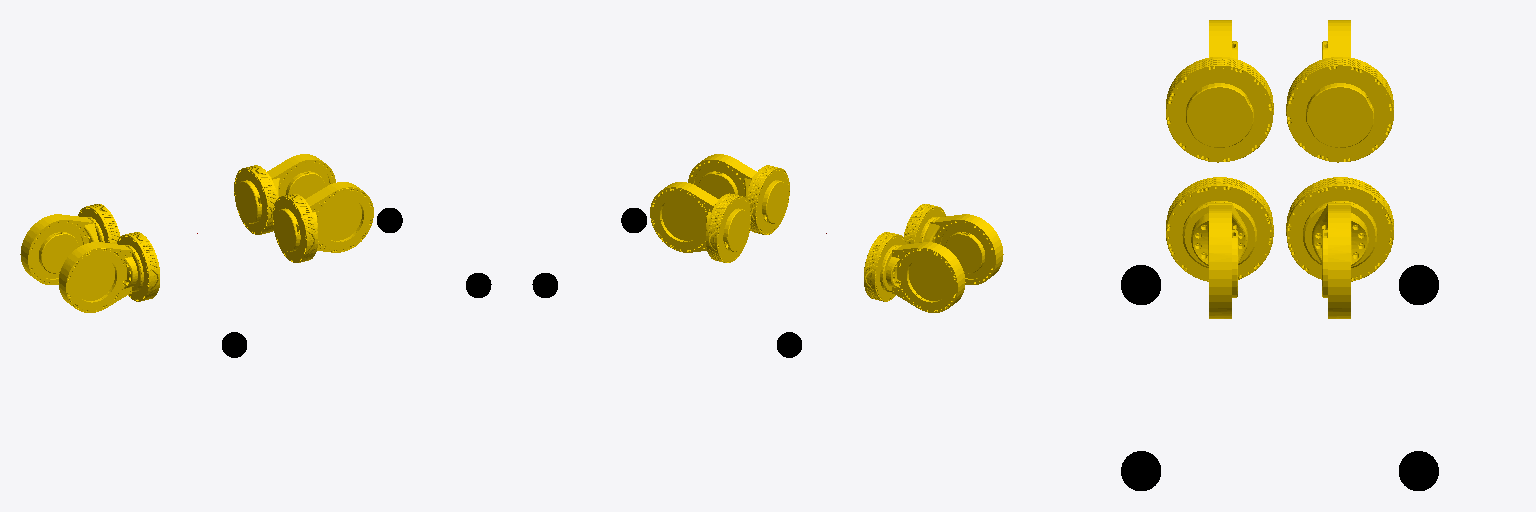
--- Facts derived from the render (not from the file) ---
The picture shows the robot from 3 angles, left to right: view 1: azimuth 30°, elevation 25°; view 2: azimuth 150°, elevation 25°; view 3: azimuth 270°, elevation 25°; orthographic projection.
Robot: quake_description — 23 links, 22 joints (12 revolute, 10 fixed); root link base; default pose: all joints at 0 but 4 set to mid-range because 0 is outside their limits (FR_calf_joint = -2, FL_calf_joint = -2, RR_calf_joint = -2, RL_calf_joint = -2).
Visible links, largest first — view 1: RR_hip, FR_hip, FL_hip, RL_hip; view 2: RL_hip, FL_hip, FR_hip, RR_hip; view 3: RR_hip, RL_hip, FL_hip, FR_hip, RR_foot, RL_foot, FR_foot, FL_foot.
Boxes of the visible links, x1,y1,x2,y2 form: RR_hip: (59, 232, 159, 312); FR_hip: (273, 182, 373, 262); FL_hip: (234, 154, 335, 234); RL_hip: (20, 204, 120, 284); RL_hip: (864, 232, 964, 312); FL_hip: (650, 182, 750, 262); FR_hip: (688, 154, 789, 234); RR_hip: (904, 204, 1003, 284); RR_hip: (1166, 20, 1273, 162); RL_hip: (1286, 20, 1393, 162); FL_hip: (1286, 177, 1393, 318); FR_hip: (1166, 177, 1273, 318); RR_foot: (1121, 265, 1160, 304); RL_foot: (1399, 265, 1438, 304); FR_foot: (1121, 451, 1160, 490); FL_foot: (1399, 451, 1438, 490).
Bounding box of the posed robot: 1.15 × 0.502 × 0.3291 m (x, y, z).
4 mesh visuals loaded from 5 distinct referenced files (1 binary STL); not drawn: 9 (reference not matched to a file when rendering).

robot.urdf — quake_description:
<?xml version="1.0" encoding="utf-8"?>
<!-- =================================================================================== -->
<!-- |    This document was autogenerated by xacro from robot.xacro                    | -->
<!-- |    EDITING THIS FILE BY HAND IS NOT RECOMMENDED                                 | -->
<!-- =================================================================================== -->
<robot name="quake_description">
  <!-- ? -->
  <!-- ? -->
  <!-- arm -->
  <!-- <xacro:property name="arm_base_mass" value=""/> 
    <xacro:property name="arm_base_width" value=""/> 
    <xacro:property name="arm_base_length" value=""/> 
    <xacro:property name="arm_base_height" value=""/> 
    <xacro:property name="arm_base_com_x" value=""/> 
    <xacro:property name="arm_base_com_y" value=""/> 
    <xacro:property name="arm_base_com_z" value=""/> 
    <xacro:property name="arm_base_ixx" value=""/>
    <xacro:property name="arm_base_ixy" value=""/>
    <xacro:property name="arm_base_ixz" value=""/>
    <xacro:property name="arm_base_iyy" value=""/>
    <xacro:property name="arm_base_iyz" value=""/>
    <xacro:property name="arm_base_izz" value=""/> -->
  <material name="black">
    <color rgba="0.0 0.0 0.0 1.0"/>
  </material>
  <material name="blue">
    <color rgba="0.0 0.0 0.8 1.0"/>
  </material>
  <material name="green">
    <color rgba="0.0 0.8 0.0 1.0"/>
  </material>
  <material name="grey">
    <color rgba="0.2 0.2 0.2 1.0"/>
  </material>
  <material name="silver">
    <color rgba="0.913725490196 0.913725490196 0.847058823529 1.0"/>
  </material>
  <material name="gold">
    <color rgba="1.0 0.843137254902 0.0 1.0"/>
  </material>
  <material name="orange">
    <color rgba="1.0 0.423529411765 0.0392156862745 1.0"/>
  </material>
  <material name="brown">
    <color rgba="0.870588235294 0.811764705882 0.764705882353 1.0"/>
  </material>
  <material name="red">
    <color rgba="0.8 0.0 0.0 1.0"/>
  </material>
  <material name="white">
    <color rgba="1.0 1.0 1.0 1.0"/>
  </material>
  <!-- ros_control plugin -->
 

    <link name="base">
        <visual>
            <origin rpy="0 0 0" xyz="0 0 0"/>
            <geometry>
                <box size="0.001 0.001 0.001"/>
            </geometry>
        </visual>
    </link>

    <joint name="floating_base" type="fixed">
        <origin rpy="0 0 0" xyz="0.1 0.1 0"/>
        <parent link="base"/>
        <child link="trunk"/>
    </joint> 
  <link name="trunk">
    <visual>
      <origin rpy="0 0 0" xyz="0 0 0"/>
      <geometry>
        <mesh filename="package://quake_description/meshes/trunk.STL" scale="1 1 1"/>
      </geometry>
      <material name="gold"/>
    </visual>
    <!-- <collision>
            <origin rpy="0 0 0" xyz="0 0 0"/>
            <geometry>
                <mesh filename="package://quake_description/meshes/trunk.STL" scale="1 1 1"/>
            </geometry>
        </collision> -->
    <inertial>
      <origin rpy="0 0 0" xyz="0.0 0.0 0.0"/>
      <mass value="30.116"/>
      <inertia ixx="0.2" ixy="-0.00023853" ixz="2.4844e-05" iyy="0.5" iyz="-0.00044715" izz="0.6"/>
    </inertial>
  </link>
  <joint name="imu_joint" type="fixed">
    <parent link="trunk"/>
    <child link="imu_link"/>
    <origin rpy="0 0 0" xyz="0 0 0"/>
  </joint>
  <link name="imu_link">
    <inertial>
      <mass value="0.001"/>
      <origin rpy="0 0 0" xyz="0 0 0"/>
      <inertia ixx="0.0001" ixy="0" ixz="0" iyy="0.000001" iyz="0" izz="0.0001"/>
    </inertial>
    <visual>
      <origin rpy="0 0 0" xyz="0 0 0"/>
      <geometry>
        <box size="0.001 0.001 0.001"/>
      </geometry>
      <material name="red"/>
    </visual>
    <collision>
      <origin rpy="0 0 0" xyz="0 0 0"/>
      <geometry>
        <box size=".001 .001 .001"/>
      </geometry>
    </collision>
  </link>
  <joint name="FR_hip_joint" type="revolute">
    <origin rpy="0 0 0" xyz="0.241 -0.095 0"/>
    <parent link="trunk"/>
    <child link="FR_hip"/>
    <axis xyz="1 0 0"/>
    <dynamics damping="0.4" friction="0.2"/>
    <limit effort="200" lower="-1.13008323737" upper="1.13008323737" velocity="52.4"/>
  </joint>
  <link name="FR_hip">
    <visual>
      <origin rpy="3.14159265359 0 0" xyz="0 0 0"/>
      <geometry>
        <mesh filename="package://quake_description/meshes/hip.STL" scale="1 1 1"/>
      </geometry>
      <material name="gold"/>
    </visual>
    <collision>
      <origin rpy="1.57079632679 0 0" xyz="0 0.04 0"/>
      <geometry>
        <cylinder length="0.08" radius="0.041"/>
      </geometry>
    </collision>
    <inertial>
      <origin rpy="0 0 0" xyz="-0.001568 0.008134 0.000864"/>
      <mass value="2.354"/>
      <inertia ixx="0.0047303" ixy="-2.3798e-05" ixz="-4.2348e-08" iyy="0.0051123" iyz="3.807e-06" izz="0.0035171"/>
    </inertial>
  </link>
  <joint name="FR_hip_fixed" type="fixed">
    <origin rpy="0 0 0" xyz="0 -0.04 0"/>
    <parent link="FR_hip"/>
    <child link="FR_thigh_shoulder"/>
  </joint>
  <!-- this link is only for collision -->
  <link name="FR_thigh_shoulder">
    <collision>
      <origin rpy="1.57079632679 0 0" xyz="0 0 0"/>
      <geometry>
        <cylinder length="0.08" radius="0.044"/>
      </geometry>
    </collision>
  </link>
  <joint name="FR_thigh_joint" type="revolute">
    <origin rpy="0 0 0" xyz="0.1065 -0.062 0"/>
    <parent link="FR_hip"/>
    <child link="FR_thigh"/>
    <axis xyz="0 1 0"/>
    <dynamics damping="0.4" friction="0.2"/>
    <limit effort="550" lower="-3.40025044874" upper="4.30014732279" velocity="28.6"/>
  </joint>
  <link name="FR_thigh">
    <visual>
      <origin rpy="0 0 0" xyz="0 0 0"/>
      <geometry>
        <mesh filename="package://quake_description/meshes/thigh_mirror.STL" scale="1 1 1"/>
      </geometry>
      <material name="gold"/>
    </visual>
    <collision>
      <origin rpy="0 1.57079632679 0" xyz="0 0 -0.18"/>
      <geometry>
        <box size="0.36 0.034 0.043"/>
      </geometry>
    </collision>
    <inertial>
      <origin rpy="0 0 0" xyz="-0.000482 -0.02001 -0.031996"/>
      <mass value="4.199"/>
      <inertia ixx="0.010387" ixy="-2.7648e-05" ixz="-0.0006887" iyy="0.013004" iyz="-0.00021997" izz="0.0029272"/>
    </inertial>
  </link>
  <joint name="FR_calf_joint" type="revolute">
    <origin rpy="0 0 0" xyz="0 -0.062 -0.36"/>
    <parent link="FR_thigh"/>
    <child link="FR_calf"/>
    <axis xyz="0 1 0"/>
    <dynamics damping="0.4" friction="1.0"/>
    <limit effort="550" lower="-2.900007366139" upper="-1.10021361804" velocity="28.6"/>
  </joint>
  <link name="FR_calf">
    <visual>
      <origin rpy="0 0 0" xyz="0 0 0"/>
      <geometry>
        <mesh filename="package://quake_description/meshes/calf.STL" scale="1 1 1"/>
      </geometry>
      <surface>
        <friction>
          <ode>
            <mu>100.0</mu>
            <mu2>100.0</mu2>
          </ode>
        </friction>
      </surface>
      <material name="black"/>
    </visual>
    <collision>
      <origin rpy="0 1.57079632679 0" xyz="0 0 -0.18"/>
      <geometry>
        <box size="0.36 0.016 0.016"/>
      </geometry>
      <surface>
        <friction>
          <ode>
            <mu>100.0</mu>
            <mu2>100.0</mu2>
          </ode>
        </friction>
      </surface>
    </collision>
    <inertial>
      <origin rpy="0 0 0" xyz="-0.002196 -0.000381 -0.12338"/>
      <mass value="0.593"/>
      <inertia ixx="0.0031787" ixy="-1.5425e-07" ixz="0.0002511" iyy="0.0032683" iyz="3.2937e-07" izz="0.0001467"/>
    </inertial>
  </link>
  <joint name="FR_foot_fixed" type="fixed">
    <origin rpy="0 0 0" xyz="0 0 -0.36"/>
    <parent link="FR_calf"/>
    <child link="FR_foot"/>
  </joint>
  <link name="FR_foot">
    <visual>
      <origin rpy="0 0 0" xyz="0 0 0"/>
      <geometry>
        <sphere radius="0.032"/>
      </geometry>
      <surface>
        <friction>
          <ode>
            <mu>100.0</mu>
            <mu2>100.0</mu2>
          </ode>
        </friction>
      </surface>
      <material name="black"/>
    </visual>
    <collision>
      <origin rpy="0 0 0" xyz="0 0 0"/>
      <geometry>
        <sphere radius="0.042"/>
      </geometry>
      <surface>
        <friction>
          <ode>
            <mu>100.0</mu>
            <mu2>100.0</mu2>
          </ode>
        </friction>
        <!-- <contact>
                <min_depth>0.01</min_depth>
                </contact> -->
      </surface>
    </collision>
    <inertial>
      <mass value="0.06"/>
      <inertia ixx="4.2336e-05" ixy="0.0" ixz="0.0" iyy="4.2336e-05" iyz="0.0" izz="4.2336e-05"/>
    </inertial>
  </link>
  <!-- <joint name="${name}_empty_fixed" type="fixed">
            <origin rpy="0 0 0" xyz="0 0 ${-(calf_length)}"/>
            <parent link="${name}_foot"/>
            <child link="${name}_empty"/>
        </joint>

        <link name="${name}_empty">
            <visual>
                <origin rpy="0 0 0" xyz="0 0 0"/>
                <geometry>
                    <sphere radius="0.0001"/>
                </geometry>
                <surface>
                <friction>
                <ode>
                    <mu>100.0</mu>
                    <mu2>100.0</mu2>
                </ode>
                </friction>
                </surface>
                <material name="orange"/>
            </visual>
            <collision>
                <origin rpy="0 0 0" xyz="0 0 0"/>
                <geometry>
                    <sphere radius="0.0001"/>
                </geometry>
                <surface>
                <friction>
                <ode>
                    <mu>100.0</mu>
                    <mu2>100.0</mu2>
                </ode>
                </friction>
                </surface>
            </collision>
            <inertial>
                <mass value="0"/>
                <inertia
                    ixx="0" ixy="0.0" ixz="0.0"
                    iyy="0" iyz="0.0"
                    izz="0"/>             
            </inertial>
        </link> -->
  <gazebo>
    <plugin filename="libgazebo_ros_p3d.so" name="p3d_base_controller">
      <alwaysOn>true</alwaysOn>
      <updateRate>200.0</updateRate>
      <bodyName>FR_calf</bodyName>
      <topicName>ground_truth/state/FR_foot</topicName>
      <gaussianNoise>0.0</gaussianNoise>
      <frameName>world</frameName>
      <xyzOffsets>0 0 0</xyzOffsets>
      <rpyOffsets>0 0 0</rpyOffsets>
    </plugin>
  </gazebo>
  <transmission name="FR_hip_tran">
    <type>transmission_interface/SimpleTransmission</type>
    <joint name="FR_hip_joint">
      <hardwareInterface>hardware_interface/EffortJointInterface</hardwareInterface>
    </joint>
    <actuator name="FR_hip_motor">
      <hardwareInterface>hardware_interface/EffortJointInterface</hardwareInterface>
      <mechanicalReduction>1</mechanicalReduction>
    </actuator>
  </transmission>
  <transmission name="FR_thigh_tran">
    <type>transmission_interface/SimpleTransmission</type>
    <joint name="FR_thigh_joint">
      <hardwareInterface>hardware_interface/EffortJointInterface</hardwareInterface>
    </joint>
    <actuator name="FR_thigh_motor">
      <hardwareInterface>hardware_interface/EffortJointInterface</hardwareInterface>
      <mechanicalReduction>1</mechanicalReduction>
    </actuator>
  </transmission>
  <transmission name="FR_calf_tran">
    <type>transmission_interface/SimpleTransmission</type>
    <joint name="FR_calf_joint">
      <hardwareInterface>hardware_interface/EffortJointInterface</hardwareInterface>
    </joint>
    <actuator name="FR_calf_motor">
      <hardwareInterface>hardware_interface/EffortJointInterface</hardwareInterface>
      <mechanicalReduction>1</mechanicalReduction>
    </actuator>
  </transmission>
  <joint name="FL_hip_joint" type="revolute">
    <origin rpy="0 0 0" xyz="0.241 0.095 0"/>
    <parent link="trunk"/>
    <child link="FL_hip"/>
    <axis xyz="1 0 0"/>
    <dynamics damping="0.4" friction="0.2"/>
    <limit effort="200" lower="-1.13008323737" upper="1.13008323737" velocity="52.4"/>
  </joint>
  <link name="FL_hip">
    <visual>
      <origin rpy="0 0 0" xyz="0 0 0"/>
      <geometry>
        <mesh filename="package://quake_description/meshes/hip.STL" scale="1 1 1"/>
      </geometry>
      <material name="gold"/>
    </visual>
    <collision>
      <origin rpy="1.57079632679 0 0" xyz="0 -0.04 0"/>
      <geometry>
        <cylinder length="0.08" radius="0.041"/>
      </geometry>
    </collision>
    <inertial>
      <origin rpy="0 0 0" xyz="-0.001568 -0.008134 0.000864"/>
      <mass value="2.354"/>
      <inertia ixx="0.0047303" ixy="2.3798e-05" ixz="-4.2348e-08" iyy="0.0051123" iyz="-3.807e-06" izz="0.0035171"/>
    </inertial>
  </link>
  <joint name="FL_hip_fixed" type="fixed">
    <origin rpy="0 0 0" xyz="0 0.04 0"/>
    <parent link="FL_hip"/>
    <child link="FL_thigh_shoulder"/>
  </joint>
  <!-- this link is only for collision -->
  <link name="FL_thigh_shoulder">
    <collision>
      <origin rpy="1.57079632679 0 0" xyz="0 0 0"/>
      <geometry>
        <cylinder length="0.08" radius="0.044"/>
      </geometry>
    </collision>
  </link>
  <joint name="FL_thigh_joint" type="revolute">
    <origin rpy="0 0 0" xyz="0.1065 0.062 0"/>
    <parent link="FL_hip"/>
    <child link="FL_thigh"/>
    <axis xyz="0 1 0"/>
    <dynamics damping="0.4" friction="0.2"/>
    <limit effort="550" lower="-3.40025044874" upper="4.300014732279" velocity="28.6"/>
  </joint>
  <link name="FL_thigh">
    <visual>
      <origin rpy="0 0 0" xyz="0 0 0"/>
      <geometry>
        <mesh filename="package://quake_description/meshes/thigh.STL" scale="1 1 1"/>
      </geometry>
      <material name="gold"/>
    </visual>
    <collision>
      <origin rpy="0 1.57079632679 0" xyz="0 0 -0.18"/>
      <geometry>
        <box size="0.36 0.034 0.043"/>
      </geometry>
    </collision>
    <inertial>
      <origin rpy="0 0 0" xyz="-0.000482 0.02001 -0.031996"/>
      <mass value="4.199"/>
      <inertia ixx="0.010387" ixy="2.7648e-05" ixz="-0.0006887" iyy="0.013004" iyz="0.00021997" izz="0.0029272"/>
    </inertial>
  </link>
  <joint name="FL_calf_joint" type="revolute">
    <origin rpy="0 0 0" xyz="0 0.062 -0.36"/>
    <parent link="FL_thigh"/>
    <child link="FL_calf"/>
    <axis xyz="0 1 0"/>
    <dynamics damping="0.4" friction="1.0"/>
    <limit effort="550" lower="-2.900007366139" upper="-1.10021361804" velocity="28.6"/>
  </joint>
  <link name="FL_calf">
    <visual>
      <origin rpy="0 0 0" xyz="0 0 0"/>
      <geometry>
        <mesh filename="package://quake_description/meshes/calf.STL" scale="1 1 1"/>
      </geometry>
      <surface>
        <friction>
          <ode>
            <mu>100.0</mu>
            <mu2>100.0</mu2>
          </ode>
        </friction>
      </surface>
      <material name="black"/>
    </visual>
    <collision>
      <origin rpy="0 1.57079632679 0" xyz="0 0 -0.18"/>
      <geometry>
        <box size="0.36 0.016 0.016"/>
      </geometry>
      <surface>
        <friction>
          <ode>
            <mu>100.0</mu>
            <mu2>100.0</mu2>
          </ode>
        </friction>
      </surface>
    </collision>
    <inertial>
      <origin rpy="0 0 0" xyz="-0.002196 -0.000381 -0.12338"/>
      <mass value="0.593"/>
      <inertia ixx="0.0031787" ixy="-1.5425e-07" ixz="0.0002511" iyy="0.0032683" iyz="3.2937e-07" izz="0.0001467"/>
    </inertial>
  </link>
  <joint name="FL_foot_fixed" type="fixed">
    <origin rpy="0 0 0" xyz="0 0 -0.36"/>
    <parent link="FL_calf"/>
    <child link="FL_foot"/>
  </joint>
  <link name="FL_foot">
    <visual>
      <origin rpy="0 0 0" xyz="0 0 0"/>
      <geometry>
        <sphere radius="0.032"/>
      </geometry>
      <surface>
        <friction>
          <ode>
            <mu>100.0</mu>
            <mu2>100.0</mu2>
          </ode>
        </friction>
      </surface>
      <material name="black"/>
    </visual>
    <collision>
      <origin rpy="0 0 0" xyz="0 0 0"/>
      <geometry>
        <sphere radius="0.042"/>
      </geometry>
      <surface>
        <friction>
          <ode>
            <mu>100.0</mu>
            <mu2>100.0</mu2>
          </ode>
        </friction>
        <!-- <contact>
                <min_depth>0.01</min_depth>
                </contact> -->
      </surface>
    </collision>
    <inertial>
      <mass value="0.06"/>
      <inertia ixx="4.2336e-05" ixy="0.0" ixz="0.0" iyy="4.2336e-05" iyz="0.0" izz="4.2336e-05"/>
    </inertial>
  </link>
  <!-- <joint name="${name}_empty_fixed" type="fixed">
            <origin rpy="0 0 0" xyz="0 0 ${-(calf_length)}"/>
            <parent link="${name}_foot"/>
            <child link="${name}_empty"/>
        </joint>

        <link name="${name}_empty">
            <visual>
                <origin rpy="0 0 0" xyz="0 0 0"/>
                <geometry>
                    <sphere radius="0.0001"/>
                </geometry>
                <surface>
                <friction>
                <ode>
                    <mu>100.0</mu>
                    <mu2>100.0</mu2>
                </ode>
                </friction>
                </surface>
                <material name="orange"/>
            </visual>
            <collision>
                <origin rpy="0 0 0" xyz="0 0 0"/>
                <geometry>
                    <sphere radius="0.0001"/>
                </geometry>
                <surface>
                <friction>
                <ode>
                    <mu>100.0</mu>
                    <mu2>100.0</mu2>
                </ode>
                </friction>
                </surface>
            </collision>
            <inertial>
                <mass value="0"/>
                <inertia
                    ixx="0" ixy="0.0" ixz="0.0"
                    iyy="0" iyz="0.0"
                    izz="0"/>             
            </inertial>
        </link> -->
  <gazebo>
    <plugin filename="libgazebo_ros_p3d.so" name="p3d_base_controller">
      <alwaysOn>true</alwaysOn>
      <updateRate>200.0</updateRate>
      <bodyName>FL_calf</bodyName>
      <topicName>ground_truth/state/FL_foot</topicName>
      <gaussianNoise>0.0</gaussianNoise>
      <frameName>world</frameName>
      <xyzOffsets>0 0 0</xyzOffsets>
      <rpyOffsets>0 0 0</rpyOffsets>
    </plugin>
  </gazebo>
  <transmission name="FL_hip_tran">
    <type>transmission_interface/SimpleTransmission</type>
    <joint name="FL_hip_joint">
      <hardwareInterface>hardware_interface/EffortJointInterface</hardwareInterface>
    </joint>
    <actuator name="FL_hip_motor">
      <hardwareInterface>hardware_interface/EffortJointInterface</hardwareInterface>
      <mechanicalReduction>1</mechanicalReduction>
    </actuator>
  </transmission>
  <transmission name="FL_thigh_tran">
    <type>transmission_interface/SimpleTransmission</type>
    <joint name="FL_thigh_joint">
      <hardwareInterface>hardware_interface/EffortJointInterface</hardwareInterface>
    </joint>
    <actuator name="FL_thigh_motor">
      <hardwareInterface>hardware_interface/EffortJointInterface</hardwareInterface>
      <mechanicalReduction>1</mechanicalReduction>
    </actuator>
  </transmission>
  <transmission name="FL_calf_tran">
    <type>transmission_interface/SimpleTransmission</type>
    <joint name="FL_calf_joint">
      <hardwareInterface>hardware_interface/EffortJointInterface</hardwareInterface>
    </joint>
    <actuator name="FL_calf_motor">
      <hardwareInterface>hardware_interface/EffortJointInterface</hardwareInterface>
      <mechanicalReduction>1</mechanicalReduction>
    </actuator>
  </transmission>
  <joint name="RR_hip_joint" type="revolute">
    <origin rpy="0 0 0" xyz="-0.241 -0.095 0"/>
    <parent link="trunk"/>
    <child link="RR_hip"/>
    <axis xyz="1 0 0"/>
    <dynamics damping="0.4" friction="0.2"/>
    <limit effort="200" lower="-1.13008323737" upper="1.13008323737" velocity="52.4"/>
  </joint>
  <link name="RR_hip">
    <visual>
      <origin rpy="3.14159265359 3.14159265359 0" xyz="0 0 0"/>
      <geometry>
        <mesh filename="package://quake_description/meshes/hip.STL" scale="1 1 1"/>
      </geometry>
      <material name="gold"/>
    </visual>
    <collision>
      <origin rpy="1.57079632679 0 0" xyz="0 0.04 0"/>
      <geometry>
        <cylinder length="0.08" radius="0.041"/>
      </geometry>
    </collision>
    <inertial>
      <origin rpy="0 0 0" xyz="0.001568 0.008134 0.000864"/>
      <mass value="2.354"/>
      <inertia ixx="0.0047303" ixy="2.3798e-05" ixz="4.2348e-08" iyy="0.0051123" iyz="3.807e-06" izz="0.0035171"/>
    </inertial>
  </link>
  <joint name="RR_hip_fixed" type="fixed">
    <origin rpy="0 0 0" xyz="0 -0.04 0"/>
    <parent link="RR_hip"/>
    <child link="RR_thigh_shoulder"/>
  </joint>
  <!-- this link is only for collision -->
  <link name="RR_thigh_shoulder">
    <collision>
      <origin rpy="1.57079632679 0 0" xyz="0 0 0"/>
      <geometry>
        <cylinder length="0.08" radius="0.044"/>
      </geometry>
    </collision>
  </link>
  <joint name="RR_thigh_joint" type="revolute">
    <origin rpy="0 0 0" xyz="-0.1065 -0.062 0"/>
    <parent link="RR_hip"/>
    <child link="RR_thigh"/>
    <axis xyz="0 1 0"/>
    <dynamics damping="0.4" friction="0.2"/>
    <limit effort="550" lower="-3.40025044874" upper="4.300014732279" velocity="28.6"/>
  </joint>
  <link name="RR_thigh">
    <visual>
      <origin rpy="0 0 0" xyz="0 0 0"/>
      <geometry>
        <mesh filename="package://quake_description/meshes/thigh_mirror.STL" scale="1 1 1"/>
      </geometry>
      <material name="gold"/>
    </visual>
    <collision>
      <origin rpy="0 1.57079632679 0" xyz="0 0 -0.18"/>
      <geometry>
        <box size="0.36 0.034 0.043"/>
      </geometry>
    </collision>
    <inertial>
      <origin rpy="0 0 0" xyz="-0.000482 -0.02001 -0.031996"/>
      <mass value="4.199"/>
      <inertia ixx="0.010387" ixy="-2.7648e-05" ixz="-0.0006887" iyy="0.013004" iyz="-0.00021997" izz="0.0029272"/>
    </inertial>
  </link>
  <joint name="RR_calf_joint" type="revolute">
    <origin rpy="0 0 0" xyz="0 -0.062 -0.36"/>
    <parent link="RR_thigh"/>
    <child link="RR_calf"/>
    <axis xyz="0 1 0"/>
    <dynamics damping="0.4" friction="1.0"/>
    <limit effort="550" lower="-2.900007366139" upper="-1.10021361804" velocity="28.6"/>
  </joint>
  <link name="RR_calf">
    <visual>
      <origin rpy="0 0 0" xyz="0 0 0"/>
      <geometry>
        <mesh filename="package://quake_description/meshes/calf.STL" scale="1 1 1"/>
      </geometry>
      <surface>
        <friction>
          <ode>
            <mu>100.0</mu>
            <mu2>100.0</mu2>
          </ode>
        </friction>
      </surface>
      <material name="black"/>
    </visual>
    <collision>
      <origin rpy="0 1.57079632679 0" xyz="0 0 -0.18"/>
      <geometry>
        <box size="0.36 0.016 0.016"/>
      </geometry>
      <surface>
        <friction>
          <ode>
            <mu>100.0</mu>
            <mu2>100.0</mu2>
          </ode>
        </friction>
      </surface>
    </collision>
    <inertial>
      <origin rpy="0 0 0" xyz="-0.002196 -0.000381 -0.12338"/>
      <mass value="0.593"/>
      <inertia ixx="0.0031787" ixy="-1.5425e-07" ixz="0.0002511" iyy="0.0032683" iyz="3.2937e-07" izz="0.0001467"/>
    </inertial>
  </link>
  <joint name="RR_foot_fixed" type="fixed">
    <origin rpy="0 0 0" xyz="0 0 -0.36"/>
    <parent link="RR_calf"/>
    <child link="RR_foot"/>
  </joint>
  <link name="RR_foot">
    <visual>
      <origin rpy="0 0 0" xyz="0 0 0"/>
      <geometry>
        <sphere radius="0.032"/>
      </geometry>
      <surface>
        <friction>
          <ode>
            <mu>100.0</mu>
            <mu2>100.0</mu2>
          </ode>
        </friction>
      </surface>
      <material name="black"/>
    </visual>
    <collision>
      <origin rpy="0 0 0" xyz="0 0 0"/>
      <geometry>
        <sphere radius="0.042"/>
      </geometry>
      <surface>
        <friction>
          <ode>
            <mu>100.0</mu>
            <mu2>100.0</mu2>
          </ode>
        </friction>
        <!-- <contact>
                <min_depth>0.01</min_depth>
                </contact> -->
      </surface>
    </collision>
    <inertial>
      <mass value="0.06"/>
      <inertia ixx="4.2336e-05" ixy="0.0" ixz="0.0" iyy="4.2336e-05" iyz="0.0" izz="4.2336e-05"/>
    </inertial>
  </link>
  <!-- <joint name="${name}_empty_fixed" type="fixed">
            <origin rpy="0 0 0" xyz="0 0 ${-(calf_length)}"/>
            <parent link="${name}_foot"/>
            <child link="${name}_empty"/>
        </joint>

        <link name="${name}_empty">
            <visual>
                <origin rpy="0 0 0" xyz="0 0 0"/>
                <geometry>
                    <sphere radius="0.0001"/>
                </geometry>
                <surface>
                <friction>
                <ode>
                    <mu>100.0</mu>
                    <mu2>100.0</mu2>
                </ode>
                </friction>
                </surface>
                <material name="orange"/>
            </visual>
            <collision>
                <origin rpy="0 0 0" xyz="0 0 0"/>
                <geometry>
                    <sphere radius="0.0001"/>
                </geometry>
                <surface>
                <friction>
                <ode>
                    <mu>100.0</mu>
                    <mu2>100.0</mu2>
                </ode>
                </friction>
                </surface>
            </collision>
            <inertial>
                <mass value="0"/>
                <inertia
                    ixx="0" ixy="0.0" ixz="0.0"
                    iyy="0" iyz="0.0"
                    izz="0"/>             
            </inertial>
        </link> -->
  <gazebo>
    <plugin filename="libgazebo_ros_p3d.so" name="p3d_base_controller">
      <alwaysOn>true</alwaysOn>
      <updateRate>200.0</updateRate>
      <bodyName>RR_calf</bodyName>
      <topicName>ground_truth/state/RR_foot</topicName>
      <gaussianNoise>0.0</gaussianNoise>
      <frameName>world</frameName>
      <xyzOffsets>0 0 0</xyzOffsets>
      <rpyOffsets>0 0 0</rpyOffsets>
    </plugin>
  </gazebo>
  <transmission name="RR_hip_tran">
    <type>transmission_interface/SimpleTransmission</type>
    <joint name="RR_hip_joint">
      <hardwareInterface>hardware_interface/EffortJointInterface</hardwareInterface>
    </joint>
    <actuator name="RR_hip_motor">
      <hardwareInterface>hardware_interface/EffortJointInterface</hardwareInterface>
      <mechanicalReduction>1</mechanicalReduction>
    </actuator>
  </transmission>
  <transmission name="RR_thigh_tran">
    <type>transmission_interface/SimpleTransmission</type>
    <joint name="RR_thigh_joint">
      <hardwareInterface>hardware_interface/EffortJointInterface</hardwareInterface>
    </joint>
    <actuator name="RR_thigh_motor">
      <hardwareInterface>hardware_interface/EffortJointInterface</hardwareInterface>
      <mechanicalReduction>1</mechanicalReduction>
    </actuator>
  </transmission>
  <transmission name="RR_calf_tran">
    <type>transmission_interface/SimpleTransmission</type>
    <joint name="RR_calf_joint">
      <hardwareInterface>hardware_interface/EffortJointInterface</hardwareInterface>
    </joint>
    <actuator name="RR_calf_motor">
      <hardwareInterface>hardware_interface/EffortJointInterface</hardwareInterface>
      <mechanicalReduction>1</mechanicalReduction>
    </actuator>
  </transmission>
  <joint name="RL_hip_joint" type="revolute">
    <origin rpy="0 0 0" xyz="-0.241 0.095 0"/>
    <parent link="trunk"/>
    <child link="RL_hip"/>
    <axis xyz="1 0 0"/>
    <dynamics damping="0.4" friction="0.2"/>
    <limit effort="200" lower="-1.13008323737" upper="1.13008323737" velocity="52.4"/>
  </joint>
  <link name="RL_hip">
    <visual>
      <origin rpy="0 3.14159265359 0" xyz="0 0 0"/>
      <geometry>
        <mesh filename="package://quake_description/meshes/hip.STL" scale="1 1 1"/>
      </geometry>
      <material name="gold"/>
    </visual>
    <collision>
      <origin rpy="1.57079632679 0 0" xyz="0 -0.04 0"/>
      <geometry>
        <cylinder length="0.08" radius="0.041"/>
      </geometry>
    </collision>
    <inertial>
      <origin rpy="0 0 0" xyz="0.001568 -0.008134 0.000864"/>
      <mass value="2.354"/>
      <inertia ixx="0.0047303" ixy="-2.3798e-05" ixz="4.2348e-08" iyy="0.0051123" iyz="-3.807e-06" izz="0.0035171"/>
    </inertial>
  </link>
  <joint name="RL_hip_fixed" type="fixed">
    <origin rpy="0 0 0" xyz="0 0.04 0"/>
    <parent link="RL_hip"/>
    <child link="RL_thigh_shoulder"/>
  </joint>
  <!-- this link is only for collision -->
  <link name="RL_thigh_shoulder">
    <collision>
      <origin rpy="1.57079632679 0 0" xyz="0 0 0"/>
      <geometry>
        <cylinder length="0.08" radius="0.044"/>
      </geometry>
    </collision>
  </link>
  <joint name="RL_thigh_joint" type="revolute">
    <origin rpy="0 0 0" xyz="-0.1065 0.062 0"/>
    <parent link="RL_hip"/>
    <child link="RL_thigh"/>
    <axis xyz="0 1 0"/>
    <dynamics damping="0.4" friction="0.2"/>
    <limit effort="550" lower="-3.40025044874" upper="4.300014732279" velocity="28.6"/>
  </joint>
  <link name="RL_thigh">
    <visual>
      <origin rpy="0 0 0" xyz="0 0 0"/>
      <geometry>
        <mesh filename="package://quake_description/meshes/thigh.STL" scale="1 1 1"/>
      </geometry>
      <material name="gold"/>
    </visual>
    <collision>
      <origin rpy="0 1.57079632679 0" xyz="0 0 -0.18"/>
      <geometry>
        <box size="0.36 0.034 0.043"/>
      </geometry>
    </collision>
    <inertial>
      <origin rpy="0 0 0" xyz="-0.000482 0.02001 -0.031996"/>
      <mass value="4.199"/>
      <inertia ixx="0.010387" ixy="2.7648e-05" ixz="-0.0006887" iyy="0.013004" iyz="0.00021997" izz="0.0029272"/>
    </inertial>
  </link>
  <joint name="RL_calf_joint" type="revolute">
    <origin rpy="0 0 0" xyz="0 0.062 -0.36"/>
    <parent link="RL_thigh"/>
    <child link="RL_calf"/>
    <axis xyz="0 1 0"/>
    <dynamics damping="0.4" friction="1.0"/>
    <limit effort="550" lower="-2.900007366139" upper="-1.10021361804" velocity="28.6"/>
  </joint>
  <link name="RL_calf">
    <visual>
      <origin rpy="0 0 0" xyz="0 0 0"/>
      <geometry>
        <mesh filename="package://quake_description/meshes/calf.STL" scale="1 1 1"/>
      </geometry>
      <surface>
        <friction>
          <ode>
            <mu>100.0</mu>
            <mu2>100.0</mu2>
          </ode>
        </friction>
      </surface>
      <material name="black"/>
    </visual>
    <collision>
      <origin rpy="0 1.57079632679 0" xyz="0 0 -0.18"/>
      <geometry>
        <box size="0.36 0.016 0.016"/>
      </geometry>
      <surface>
        <friction>
          <ode>
            <mu>100.0</mu>
            <mu2>100.0</mu2>
          </ode>
        </friction>
      </surface>
    </collision>
    <inertial>
      <origin rpy="0 0 0" xyz="-0.002196 -0.000381 -0.12338"/>
      <mass value="0.593"/>
      <inertia ixx="0.0031787" ixy="-1.5425e-07" ixz="0.0002511" iyy="0.0032683" iyz="3.2937e-07" izz="0.0001467"/>
    </inertial>
  </link>
  <joint name="RL_foot_fixed" type="fixed">
    <origin rpy="0 0 0" xyz="0 0 -0.36"/>
    <parent link="RL_calf"/>
    <child link="RL_foot"/>
  </joint>
  <link name="RL_foot">
    <visual>
      <origin rpy="0 0 0" xyz="0 0 0"/>
      <geometry>
        <sphere radius="0.032"/>
      </geometry>
      <surface>
        <friction>
          <ode>
            <mu>100.0</mu>
            <mu2>100.0</mu2>
          </ode>
        </friction>
      </surface>
      <material name="black"/>
    </visual>
    <collision>
      <origin rpy="0 0 0" xyz="0 0 0"/>
      <geometry>
        <sphere radius="0.042"/>
      </geometry>
      <surface>
        <friction>
          <ode>
            <mu>100.0</mu>
            <mu2>100.0</mu2>
          </ode>
        </friction>
        <!-- <contact>
                <min_depth>0.01</min_depth>
                </contact> -->
      </surface>
    </collision>
    <inertial>
      <mass value="0.06"/>
      <inertia ixx="4.2336e-05" ixy="0.0" ixz="0.0" iyy="4.2336e-05" iyz="0.0" izz="4.2336e-05"/>
    </inertial>
  </link>
  <!-- <joint name="${name}_empty_fixed" type="fixed">
            <origin rpy="0 0 0" xyz="0 0 ${-(calf_length)}"/>
            <parent link="${name}_foot"/>
            <child link="${name}_empty"/>
        </joint>

        <link name="${name}_empty">
            <visual>
                <origin rpy="0 0 0" xyz="0 0 0"/>
                <geometry>
                    <sphere radius="0.0001"/>
                </geometry>
                <surface>
                <friction>
                <ode>
                    <mu>100.0</mu>
                    <mu2>100.0</mu2>
                </ode>
                </friction>
                </surface>
                <material name="orange"/>
            </visual>
            <collision>
                <origin rpy="0 0 0" xyz="0 0 0"/>
                <geometry>
                    <sphere radius="0.0001"/>
                </geometry>
                <surface>
                <friction>
                <ode>
                    <mu>100.0</mu>
                    <mu2>100.0</mu2>
                </ode>
                </friction>
                </surface>
            </collision>
            <inertial>
                <mass value="0"/>
                <inertia
                    ixx="0" ixy="0.0" ixz="0.0"
                    iyy="0" iyz="0.0"
                    izz="0"/>             
            </inertial>
        </link> -->
  <gazebo>
    <plugin filename="libgazebo_ros_p3d.so" name="p3d_base_controller">
      <alwaysOn>true</alwaysOn>
      <updateRate>200.0</updateRate>
      <bodyName>RL_calf</bodyName>
      <topicName>ground_truth/state/RL_foot</topicName>
      <gaussianNoise>0.0</gaussianNoise>
      <frameName>world</frameName>
      <xyzOffsets>0 0 0</xyzOffsets>
      <rpyOffsets>0 0 0</rpyOffsets>
    </plugin>
  </gazebo>
  <transmission name="RL_hip_tran">
    <type>transmission_interface/SimpleTransmission</type>
    <joint name="RL_hip_joint">
      <hardwareInterface>hardware_interface/EffortJointInterface</hardwareInterface>
    </joint>
    <actuator name="RL_hip_motor">
      <hardwareInterface>hardware_interface/EffortJointInterface</hardwareInterface>
      <mechanicalReduction>1</mechanicalReduction>
    </actuator>
  </transmission>
  <transmission name="RL_thigh_tran">
    <type>transmission_interface/SimpleTransmission</type>
    <joint name="RL_thigh_joint">
      <hardwareInterface>hardware_interface/EffortJointInterface</hardwareInterface>
    </joint>
    <actuator name="RL_thigh_motor">
      <hardwareInterface>hardware_interface/EffortJointInterface</hardwareInterface>
      <mechanicalReduction>1</mechanicalReduction>
    </actuator>
  </transmission>
  <transmission name="RL_calf_tran">
    <type>transmission_interface/SimpleTransmission</type>
    <joint name="RL_calf_joint">
      <hardwareInterface>hardware_interface/EffortJointInterface</hardwareInterface>
    </joint>
    <actuator name="RL_calf_motor">
      <hardwareInterface>hardware_interface/EffortJointInterface</hardwareInterface>
      <mechanicalReduction>1</mechanicalReduction>
    </actuator>
  </transmission>
 
</robot>
